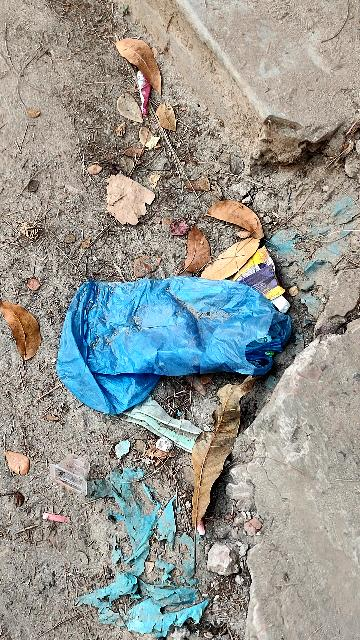polythene: (60, 267, 285, 387)
